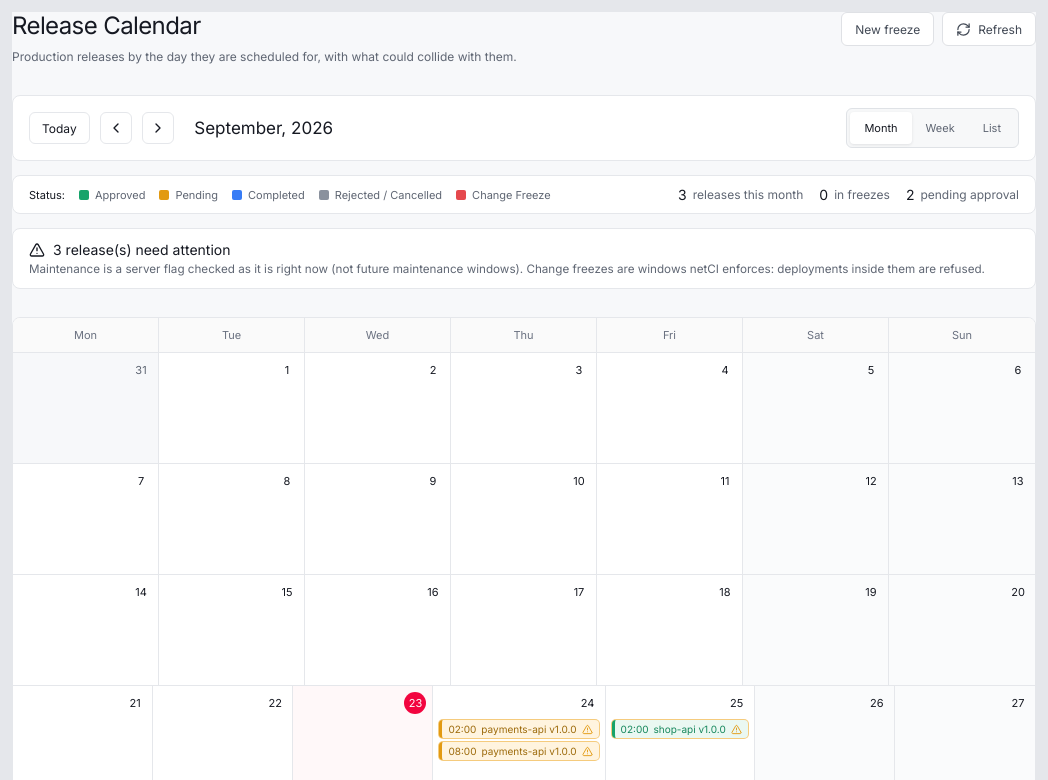
Scenario: ReleaseCalendarPage › shows the error in role="alert" on a failed create
The image size is (1048, 780).
Check: the element with test id "calendar-summary" is shown, box [12, 228, 1036, 289]
Click the button "New freeze": (888, 29) [841, 12, 934, 46]
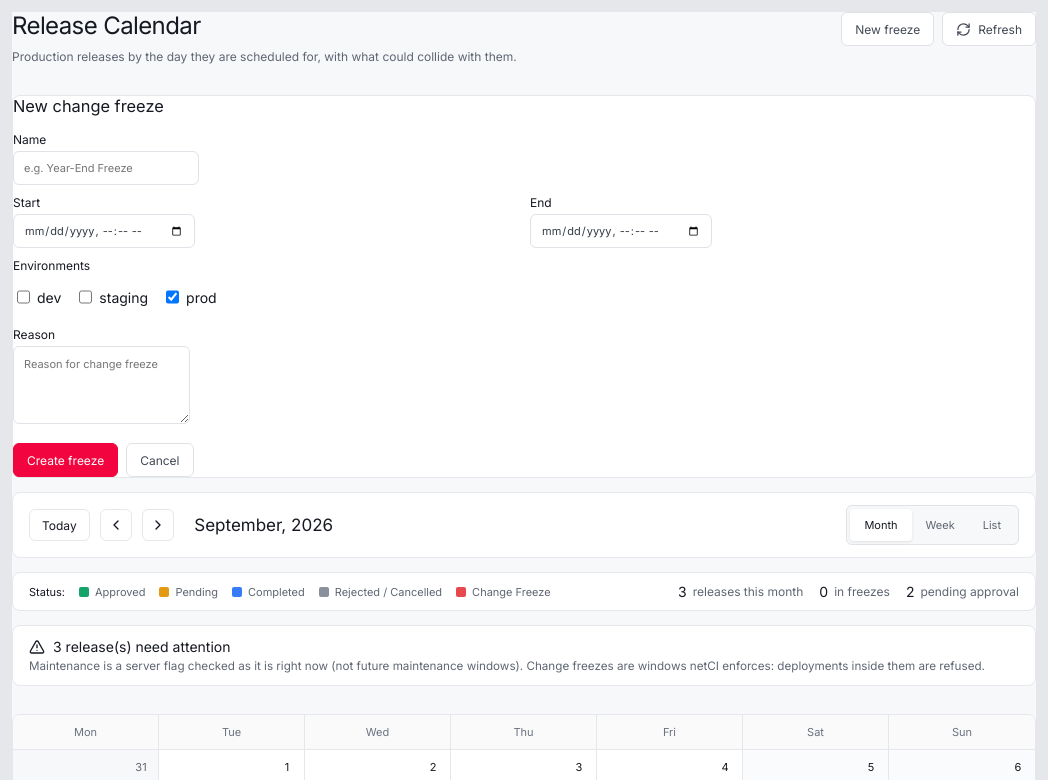
Check: the form with test id "freeze-form" is shown, box [12, 95, 1036, 478]
In the field labelled "Name": (106, 168) [13, 151, 199, 185], type "Test Freeze"
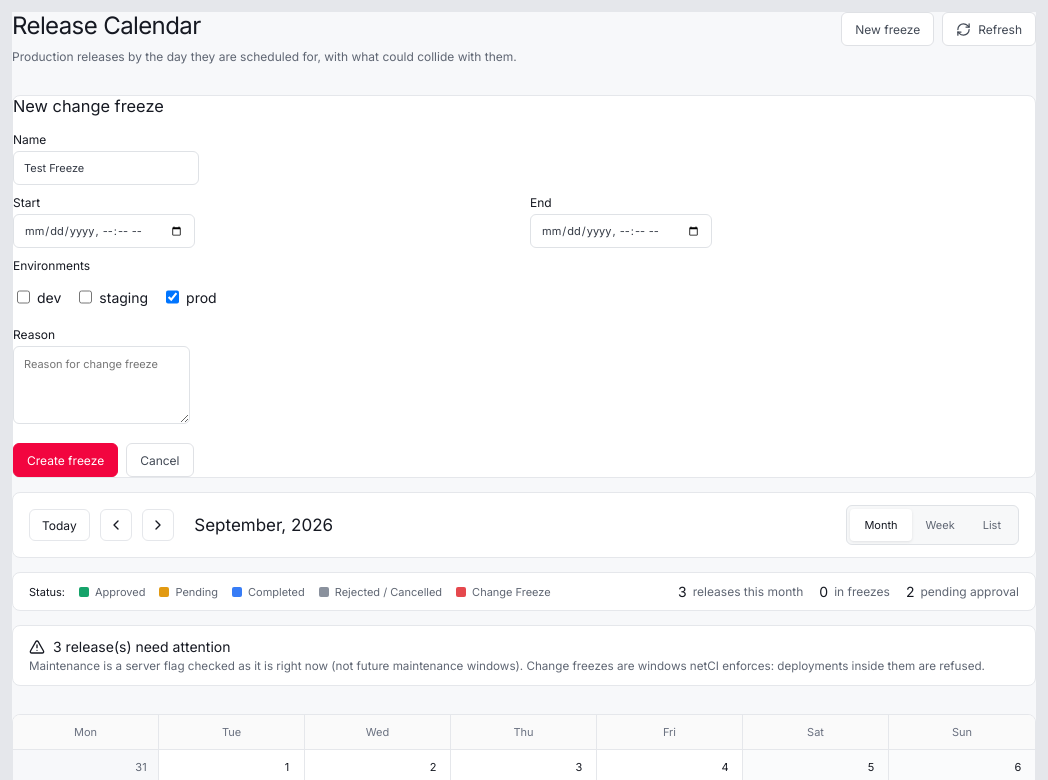
In the field labelled "Start": (104, 231) [13, 214, 195, 248], type "2026-09-24T10:00"
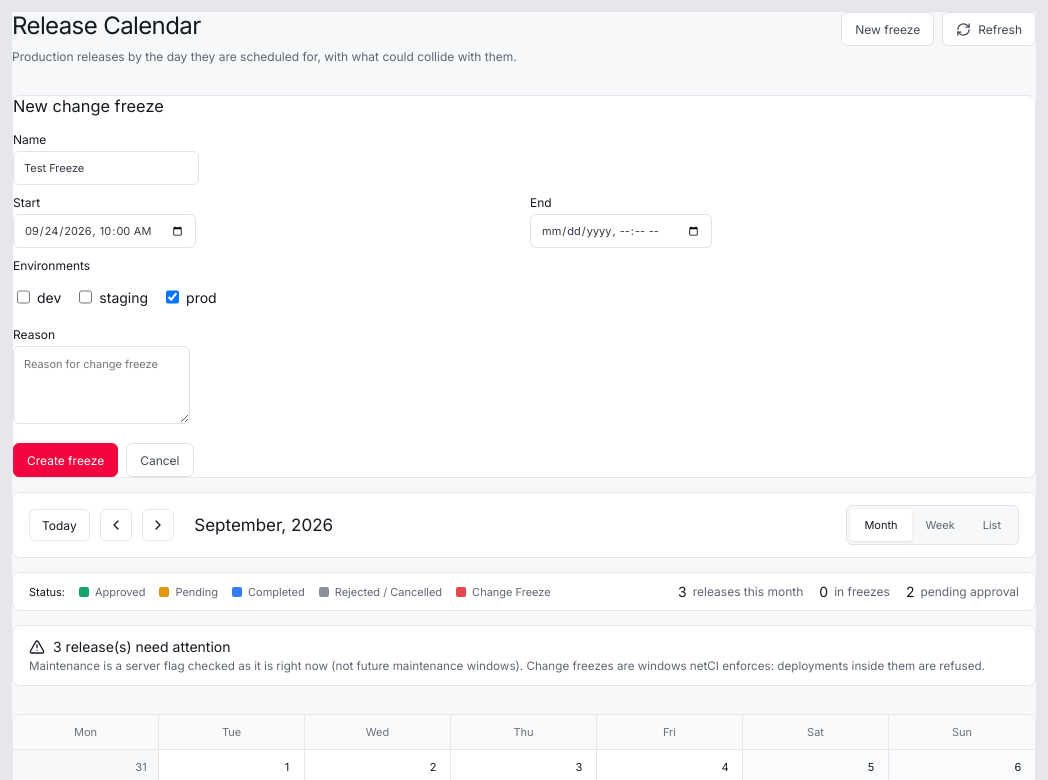
In the field labelled "End": (621, 231) [530, 214, 712, 248], type "2026-09-24T18:00"
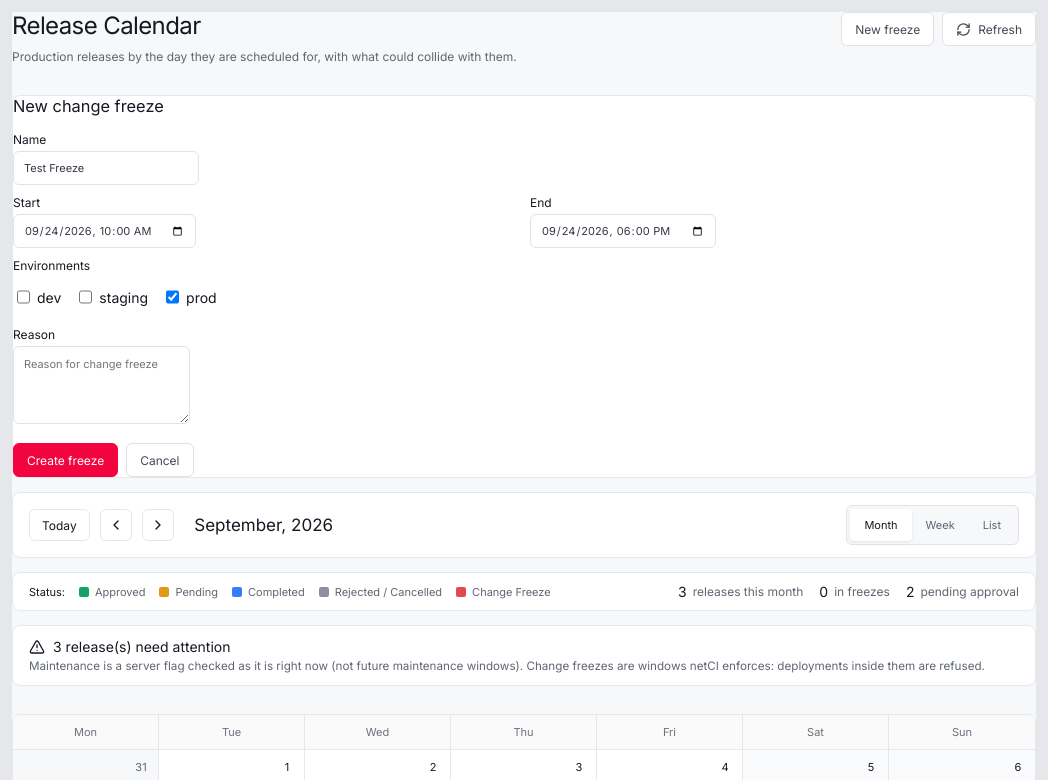
In the text box labelled "Reason": (102, 385) [13, 346, 190, 424], type "Test reason"
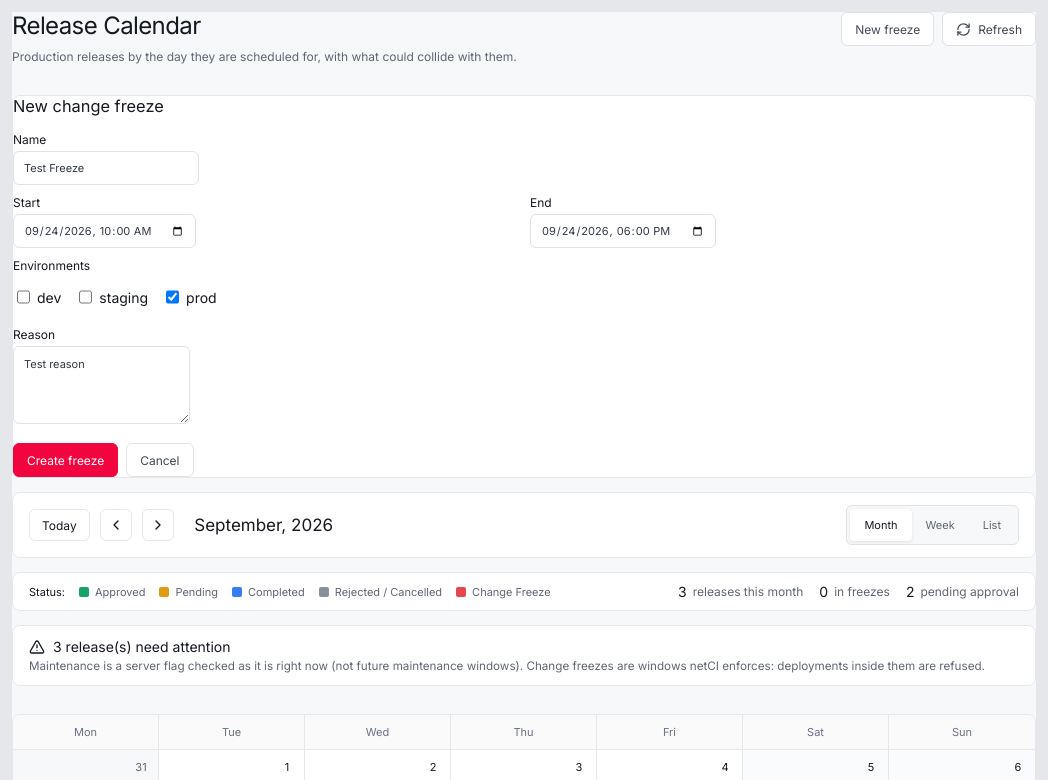
Click the button "Create freeze": (66, 460) [13, 443, 118, 477]
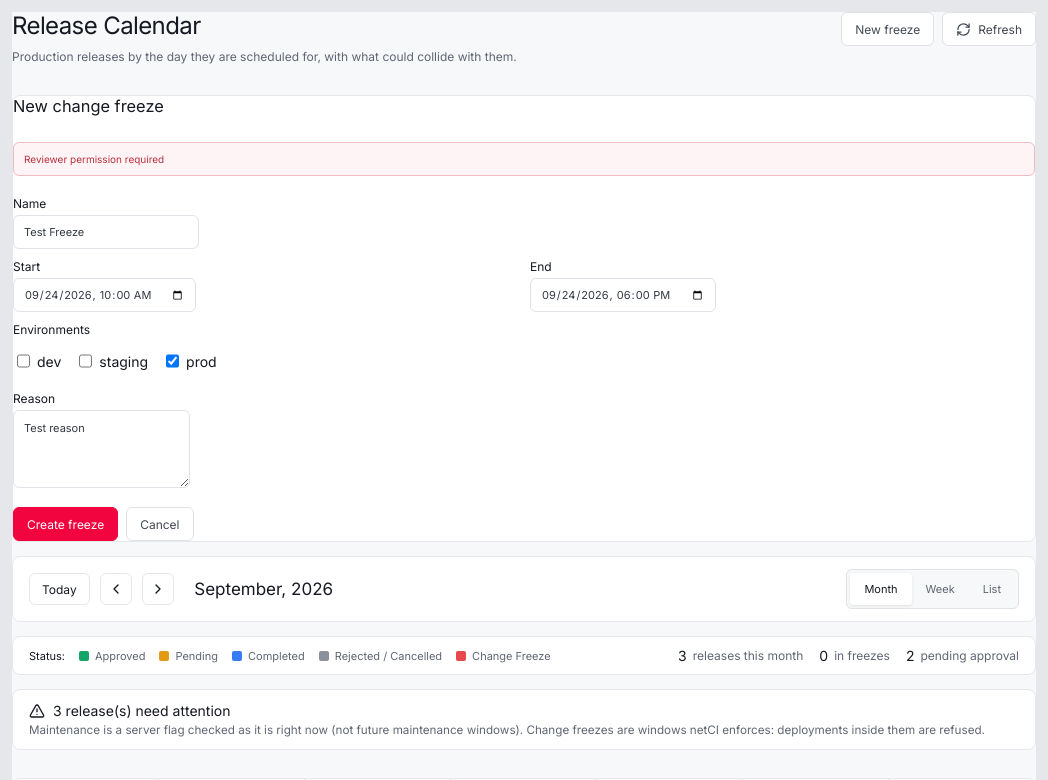
Check: the message "Reviewer permission required" is shown, box [13, 142, 1035, 176]
Check: the message reads "Reviewer permission required", box [24, 153, 164, 165]
